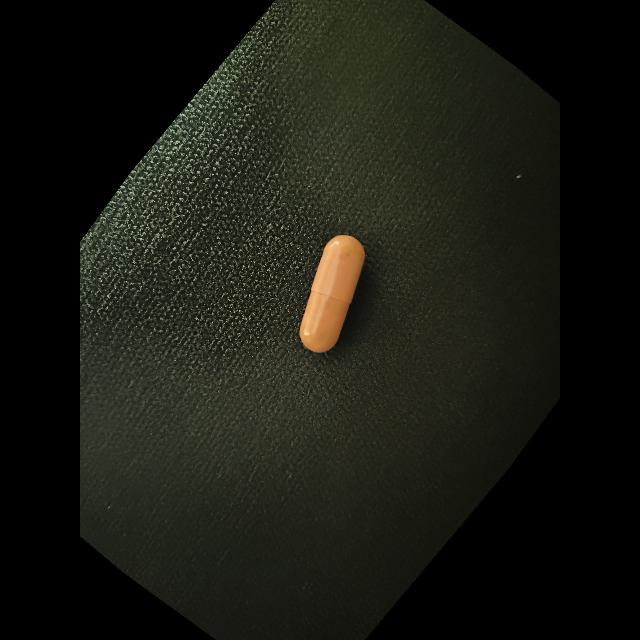Intact Capsule: (299, 235, 365, 353)
